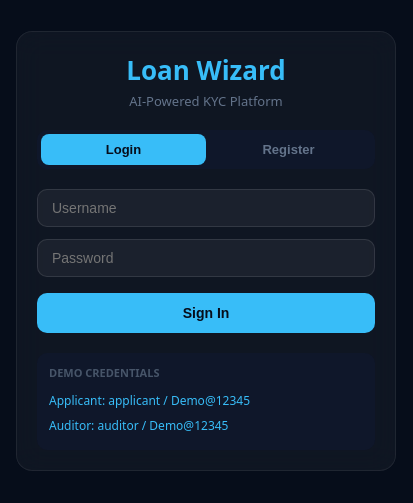
shows error message on failed login
Step 1. Type "bad" into the field with placeholder "Username" → (206, 208), box [37, 189, 375, 227]
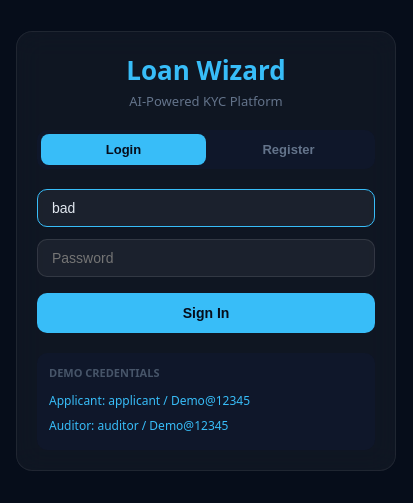
Step 2. Type "bad" into the password field with placeholder "Password" → (206, 258), box [37, 239, 375, 277]
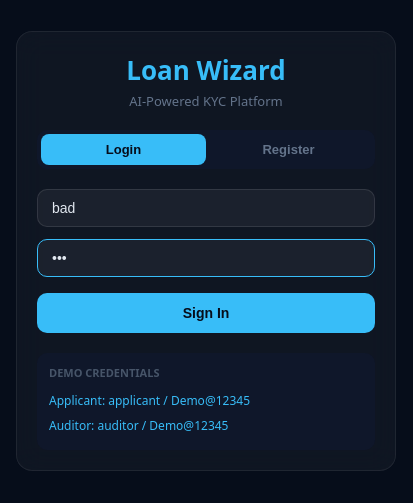
Step 3. Click the button "Sign In" → click(206, 313), box [37, 293, 375, 333]
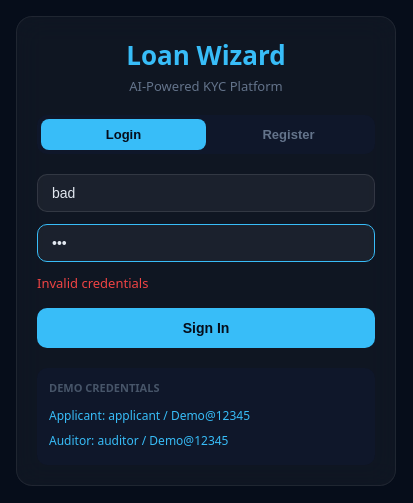
Now the text "Invalid credentials" is shown, box [37, 274, 148, 292]
